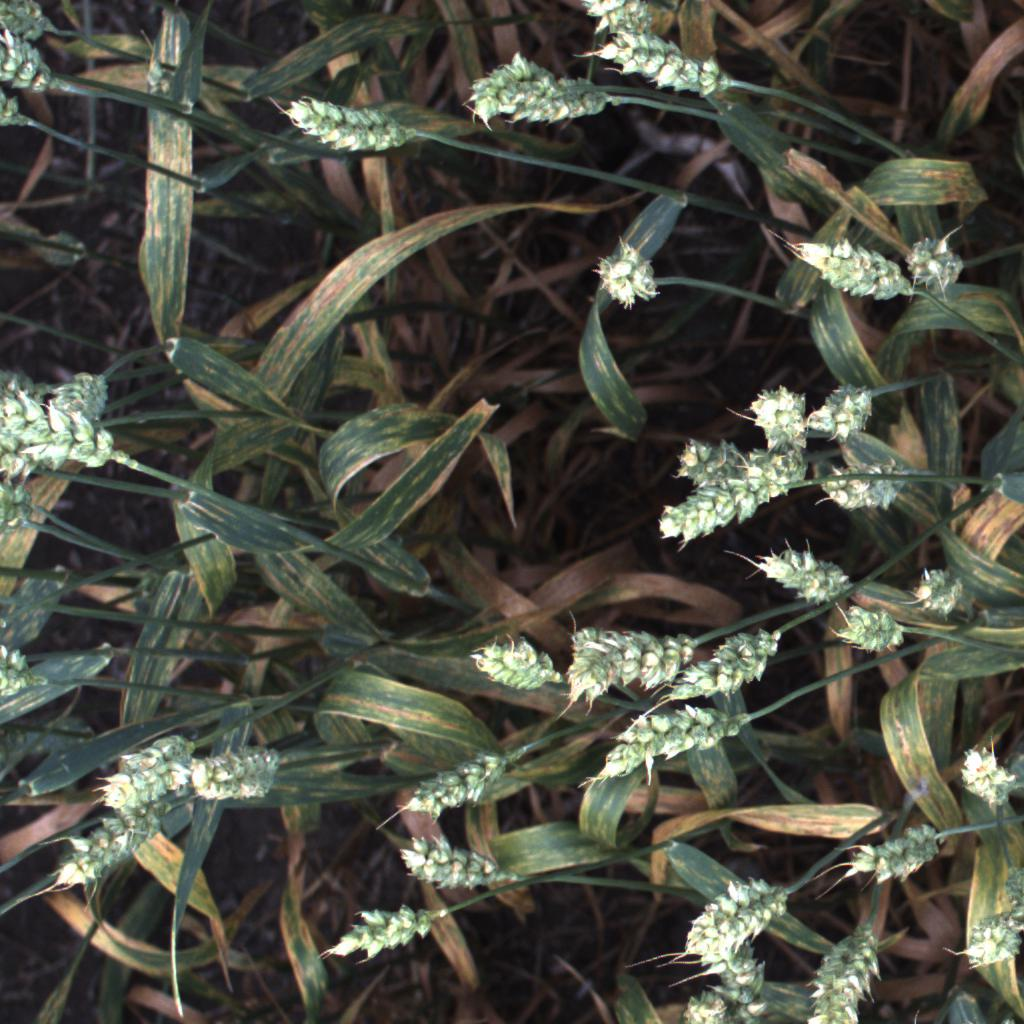0-0: (596, 683, 756, 783), (262, 80, 436, 170), (391, 733, 540, 823), (774, 222, 921, 311), (54, 791, 178, 893), (0, 378, 129, 476), (793, 916, 910, 1024), (643, 464, 793, 547), (559, 622, 701, 708), (832, 801, 955, 898), (583, 29, 745, 101), (657, 423, 816, 496), (679, 865, 792, 962), (320, 892, 450, 975), (458, 619, 567, 709), (389, 827, 531, 894), (747, 538, 871, 611), (684, 618, 791, 702), (96, 729, 204, 807), (579, 229, 668, 318), (808, 448, 926, 514), (959, 861, 1024, 978), (565, 0, 678, 66), (734, 380, 823, 460), (943, 734, 1024, 817), (800, 374, 887, 445), (192, 751, 295, 809), (468, 48, 548, 122), (825, 604, 910, 664), (510, 78, 620, 124), (0, 38, 81, 99), (903, 229, 971, 299), (45, 357, 115, 425), (702, 938, 769, 1005), (913, 561, 976, 622), (0, 0, 66, 49), (0, 474, 42, 534), (0, 632, 31, 705), (680, 992, 729, 1024), (862, 1020, 951, 1024)
